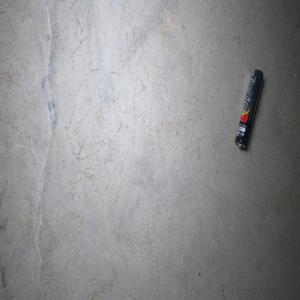Battery: (234, 68, 263, 149)
